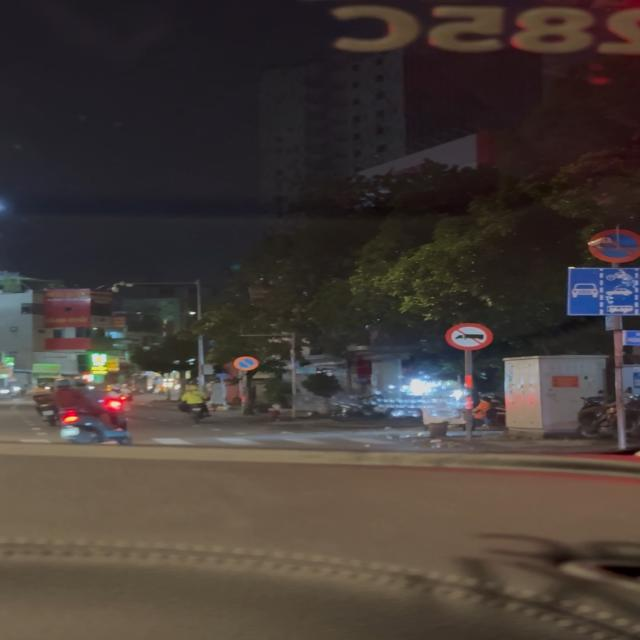Bien bao cam xe so-mi ro-mooc: (440, 322, 495, 353)
